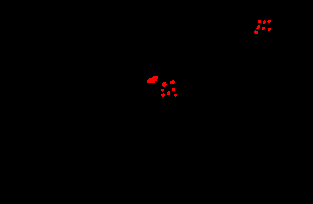Target: (147, 76, 158, 83), (162, 82, 167, 87), (170, 80, 175, 84), (256, 25, 260, 29), (254, 30, 258, 34), (161, 93, 165, 97), (263, 20, 266, 24), (267, 20, 271, 23), (167, 91, 170, 95), (258, 20, 261, 23), (262, 27, 265, 30), (268, 28, 271, 31), (172, 88, 175, 91), (161, 89, 164, 92), (174, 94, 177, 97)
